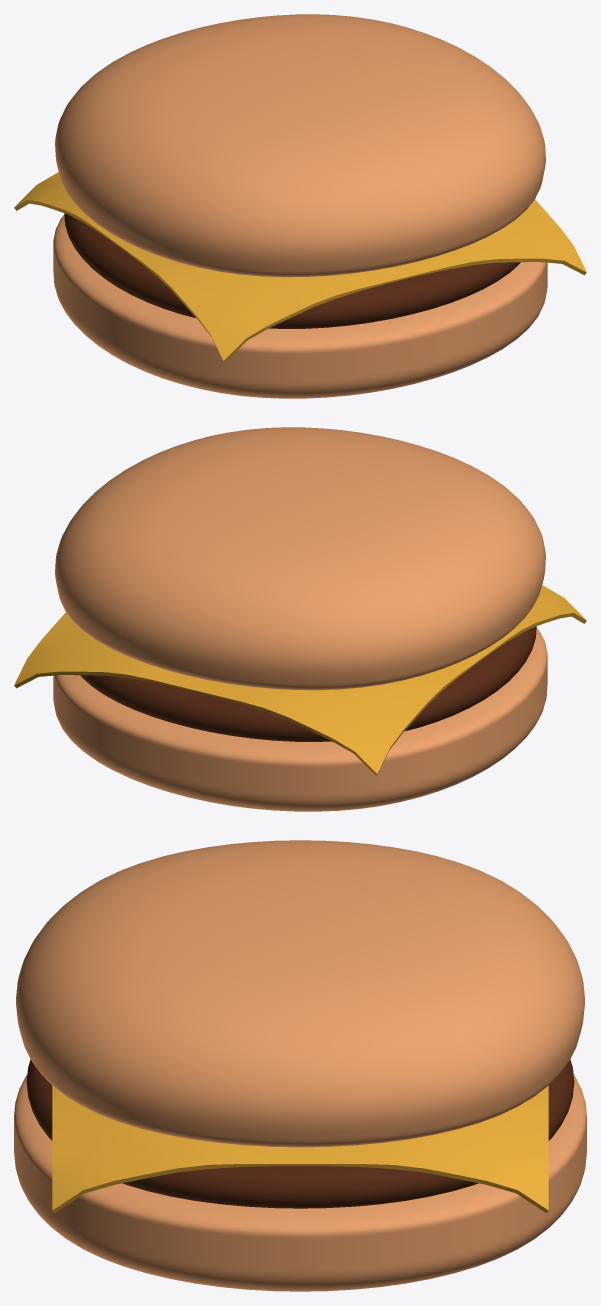
The model's file is hamburger.glb.
The picture shows the model from 3 angles, top to bottom: view 1: azimuth 30°, elevation 25°; view 2: azimuth 150°, elevation 25°; view 3: azimuth 270°, elevation 25°; orthographic projection. The views are drawn at different scales.
Visible parts, largest first — view 1: Cube.002, Cube, Plane, Cube.001; view 2: Cube.002, Cube, Plane, Cube.001; view 3: Cube.002, Cube, Plane, Cube.001.
Part boxes in pixels (bbox=[...]): Cube.002: bbox=[55, 14, 545, 277]; Cube: bbox=[53, 215, 547, 398]; Plane: bbox=[14, 172, 586, 362]; Cube.001: bbox=[64, 213, 520, 328]; Cube.002: bbox=[55, 427, 545, 690]; Cube: bbox=[53, 628, 547, 811]; Plane: bbox=[14, 585, 586, 775]; Cube.001: bbox=[80, 626, 536, 741]; Cube.002: bbox=[16, 840, 584, 1147]; Cube: bbox=[14, 1074, 586, 1291]; Plane: bbox=[52, 1085, 548, 1212]; Cube.001: bbox=[26, 1059, 574, 1208].
Bounding box in the file's own units: 9.17 × 5.24 × 9.17.
